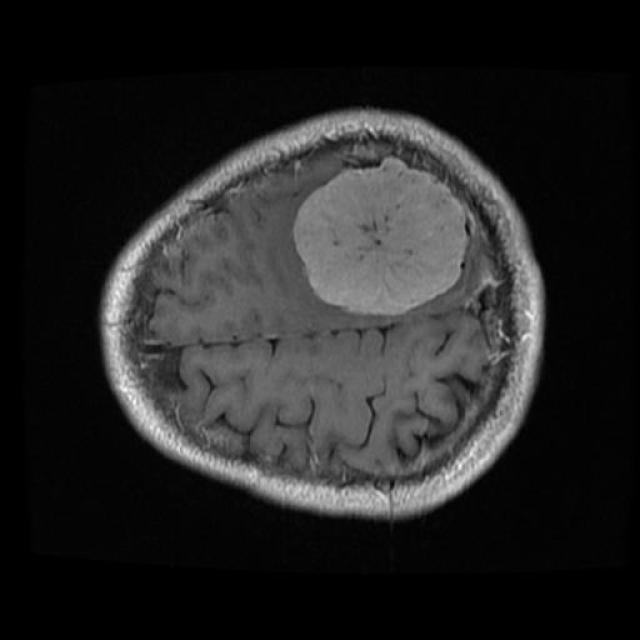Meningioma: (295, 157, 471, 316)
